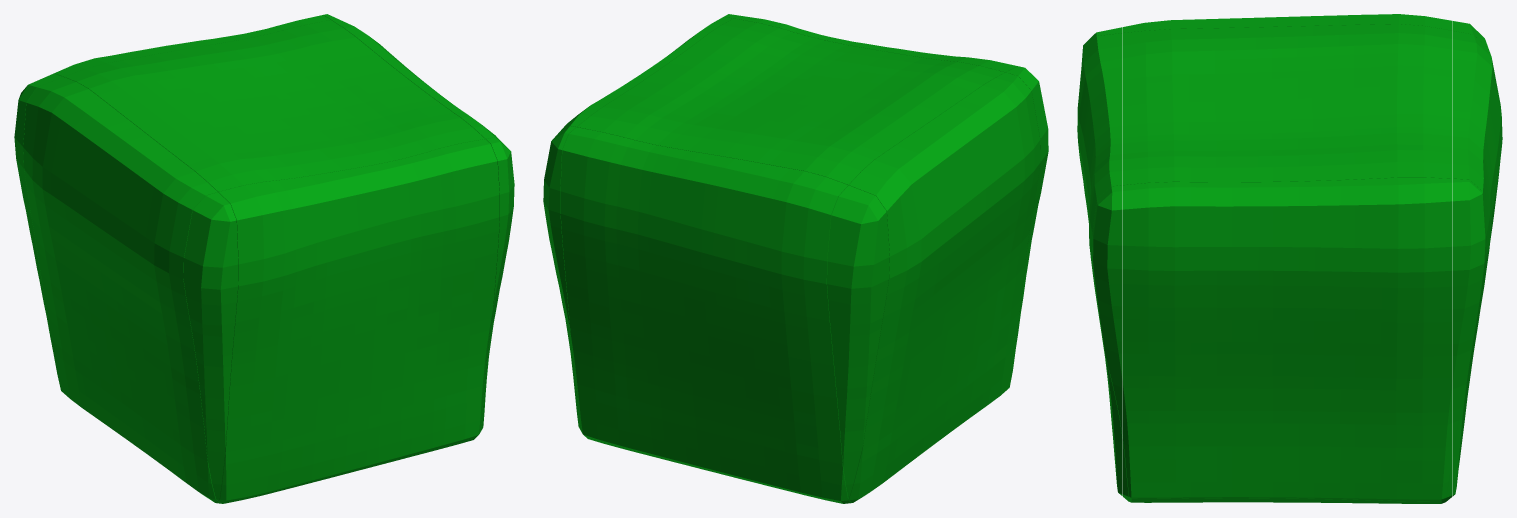
File: 4by10beveledsubdivided.023.fbx
The picture shows the model from 3 angles, left to right: view 1: azimuth 30°, elevation 25°; view 2: azimuth 150°, elevation 25°; view 3: azimuth 270°, elevation 25°; orthographic projection. The views are drawn at different scales.
Parts seen in each view (by area): view 1: 4by10beveledsubdivided.023; view 2: 4by10beveledsubdivided.023; view 3: 4by10beveledsubdivided.023.
Boxes of the visible parts, left/top/right/bottom form: 4by10beveledsubdivided.023: left=14, top=14, right=514, bottom=503; 4by10beveledsubdivided.023: left=543, top=14, right=1048, bottom=503; 4by10beveledsubdivided.023: left=1077, top=14, right=1502, bottom=503.
Bounding box in the file's own units: 258 × 232 × 258.
